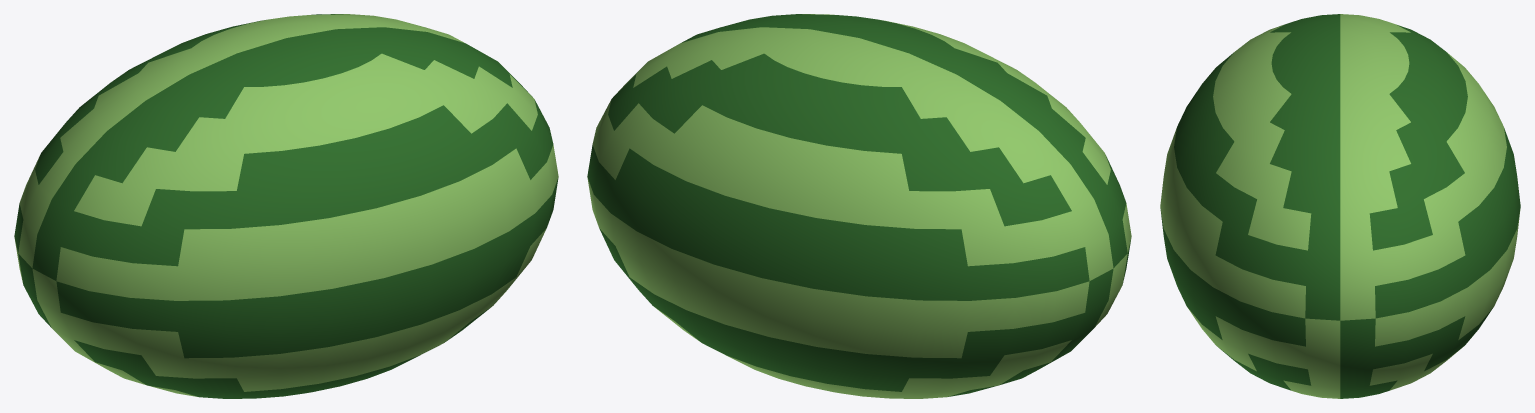
File: WatermelonItem.fbx
3 views of the same model, side by side, from view 1: azimuth 30°, elevation 25°; view 2: azimuth 150°, elevation 25°; view 3: azimuth 270°, elevation 25° (orthographic). The views are drawn at different scales.
Parts seen in each view (by area): view 1: Melon; view 2: Melon; view 3: Melon.
Boxes of the visible parts, bbox=[...] form: Melon: bbox=[14, 14, 558, 398]; Melon: bbox=[587, 14, 1131, 398]; Melon: bbox=[1160, 14, 1520, 398].
Size of the model in its own units: 0.3 by 0.19 by 0.2.
